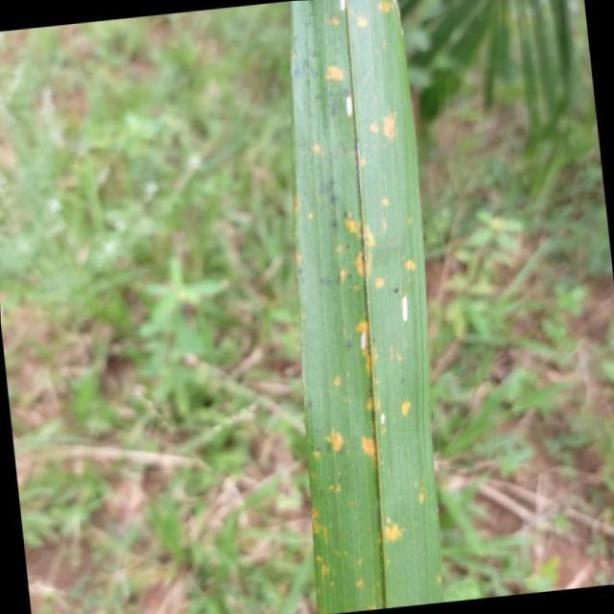Kalium: (291, 0, 441, 614)
